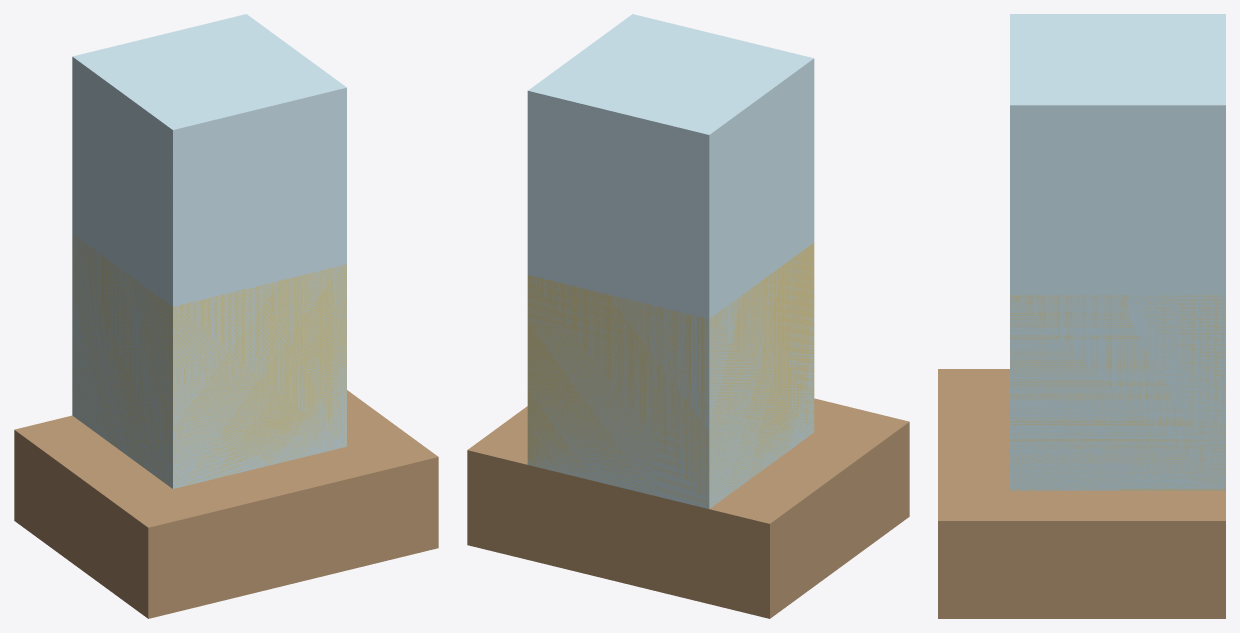
The model's file is Prop_Pet_AMF_Feeder_V5.glb.
3 renders of one model, left to right at view 1: azimuth 30°, elevation 25°; view 2: azimuth 150°, elevation 25°; view 3: azimuth 270°, elevation 25°, orthographic. The views are drawn at different scales.
Visible parts, largest first — view 1: Prop_Pet_AMF_Feeder_V5; view 2: Prop_Pet_AMF_Feeder_V5; view 3: Prop_Pet_AMF_Feeder_V5.
Part boxes in pixels (box(x1,y1,x2,y2)): Prop_Pet_AMF_Feeder_V5: box(14, 14, 438, 618); Prop_Pet_AMF_Feeder_V5: box(467, 14, 909, 618); Prop_Pet_AMF_Feeder_V5: box(938, 14, 1225, 618).
Bounding box in the file's own units: 0.5 × 0.7407 × 0.4.
